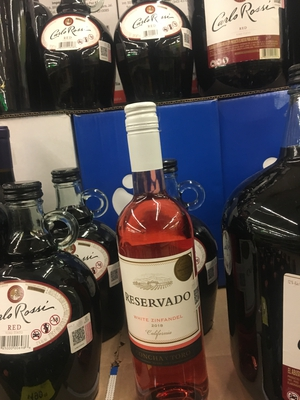reservado white zinfandel: (113, 87, 220, 397)
